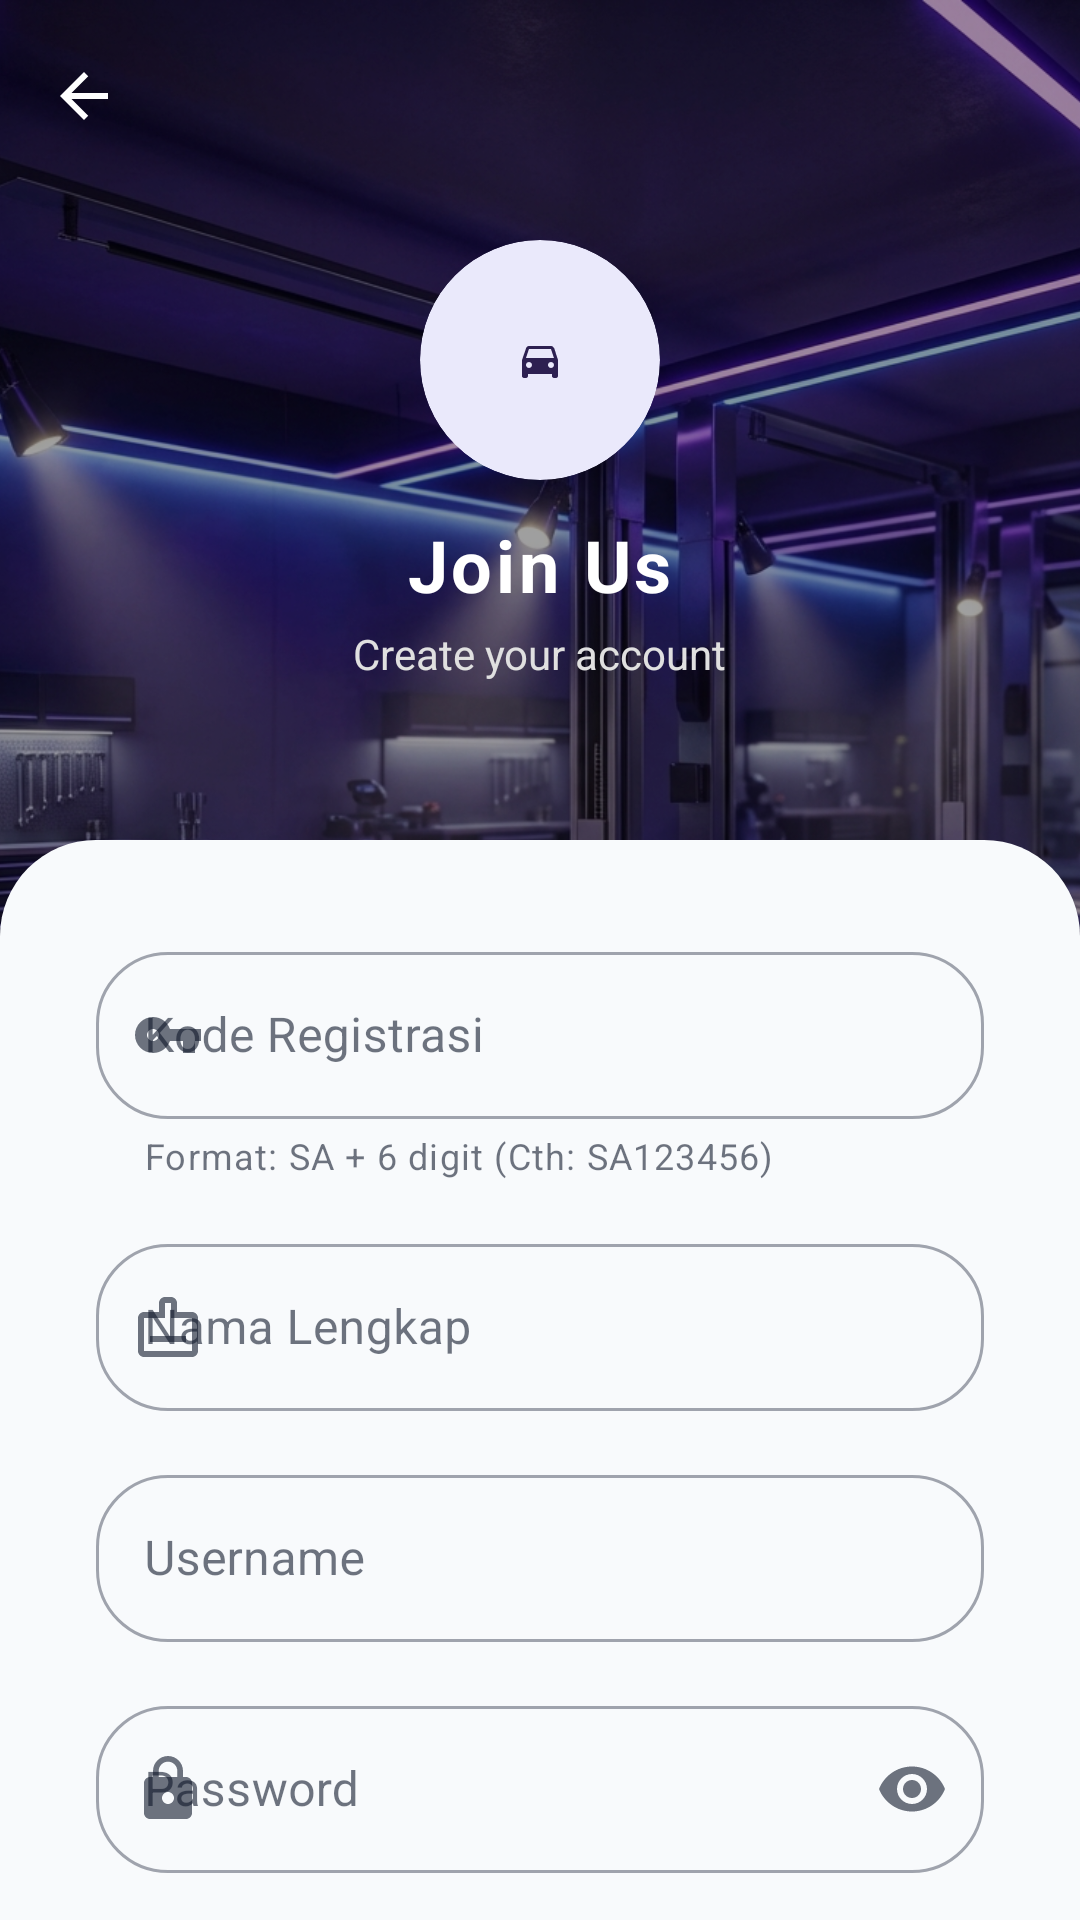

Icon click points for this 1080*1920 phone screenshot, format (x,y):
car: (540,362)
